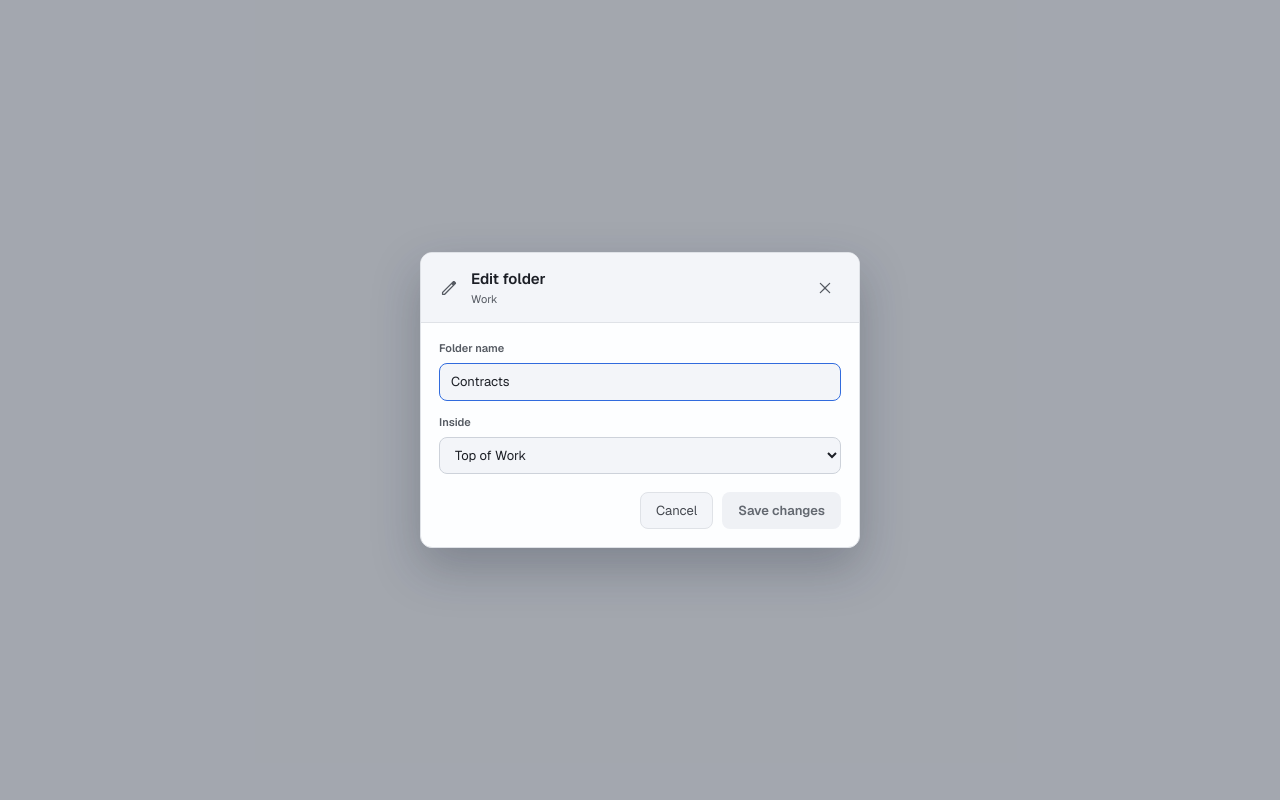
Scenario: FolderMaintenanceProvider › renames the folder where only the name moved
Expected: the heading "Edit folder" is shown, top-left (471, 269), bottom-right (546, 288)
Replace the text in the field labelled "Folder name" with "Contracts 2027". click: (640, 382)
box: top-left (439, 363), bottom-right (841, 401)
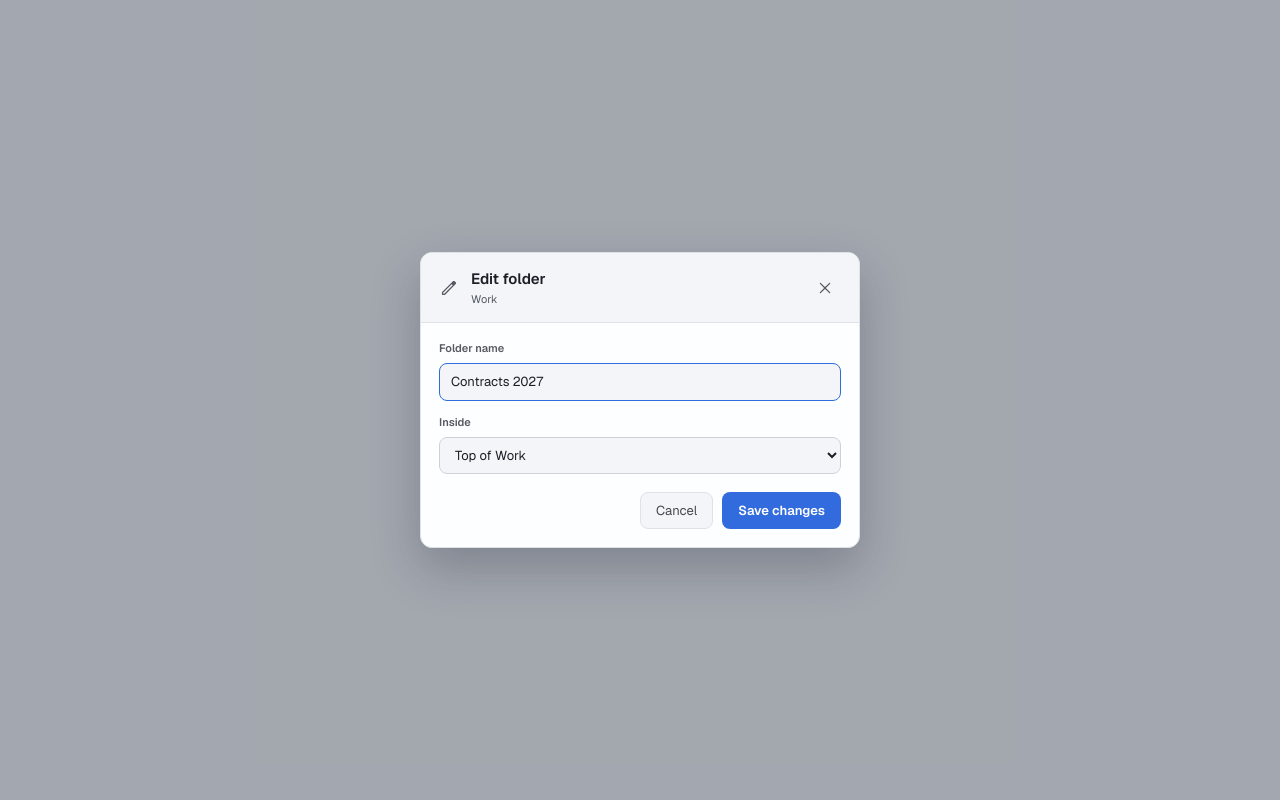
Click the button "Save changes". click: (782, 510)
box: top-left (722, 492), bottom-right (841, 529)
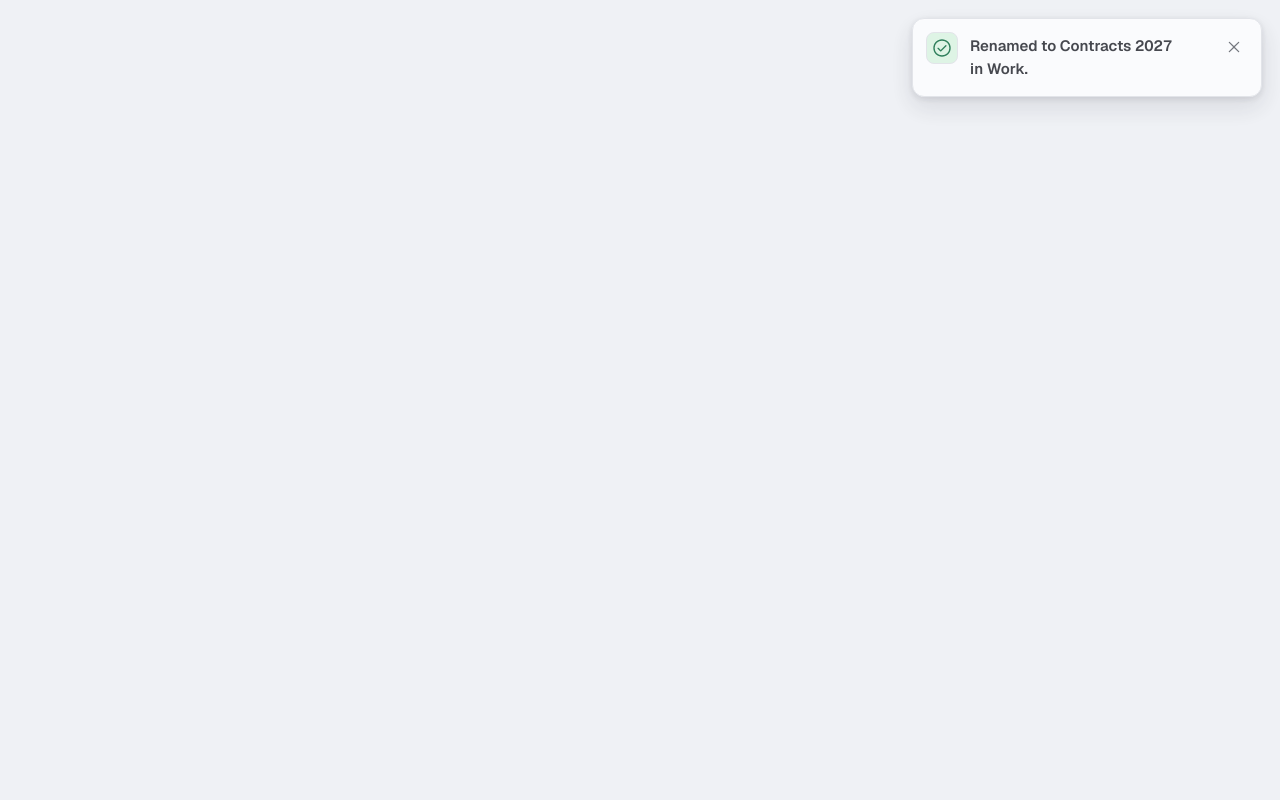
Now the text "Renamed to Contracts 2027 in Work." is shown, box top-left (970, 34), bottom-right (1207, 80)
